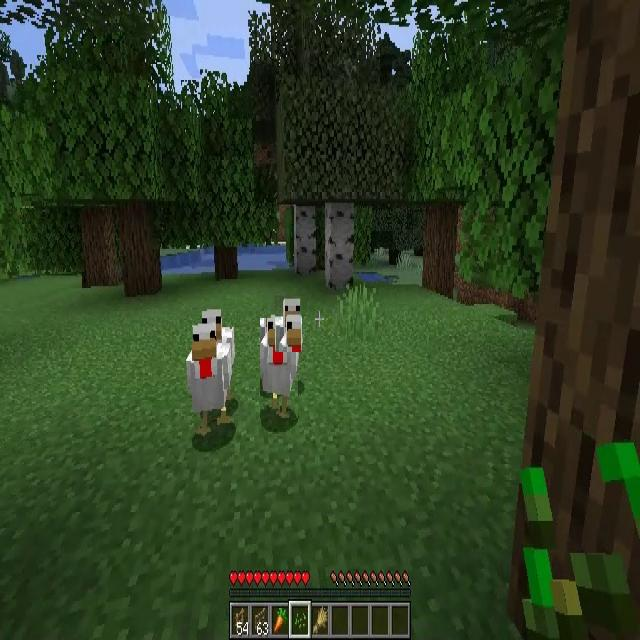duck: (190, 327, 233, 433), (260, 318, 298, 418), (202, 310, 236, 369), (276, 296, 302, 352)
